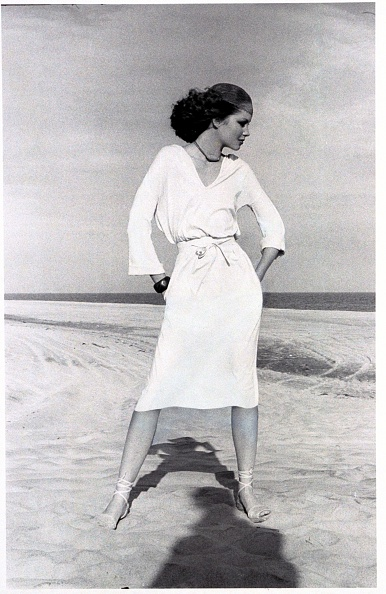em pe: (105, 79, 280, 542)
